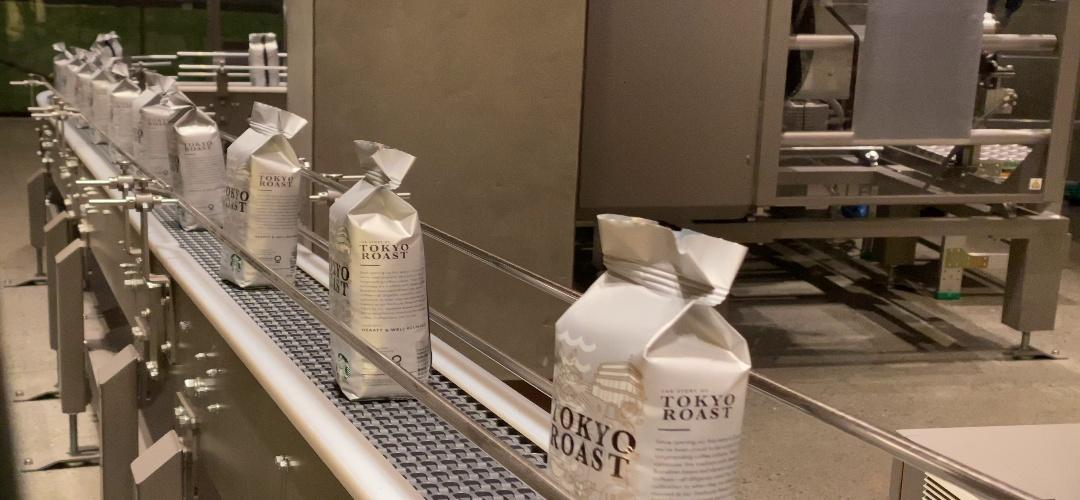conveyor: (554, 293, 744, 494), (324, 186, 430, 346), (224, 140, 304, 248), (168, 112, 224, 216)
